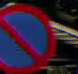No waiting: (2, 1, 61, 70)
